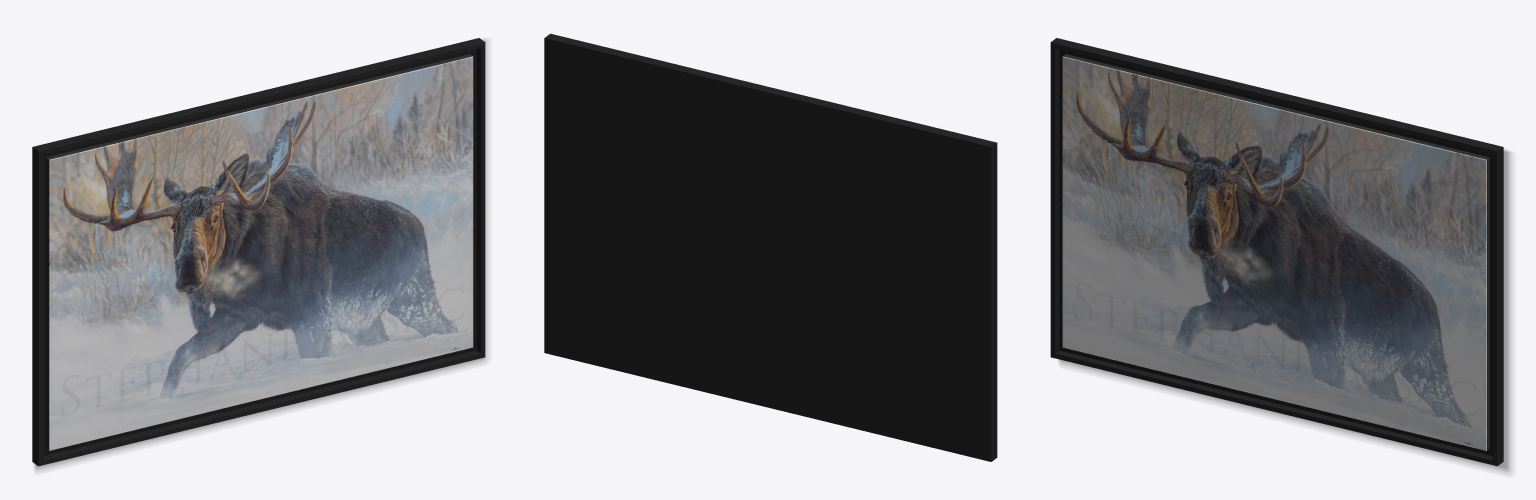
Rendered from tableau-elan-orignal-geant-c1877afa.glb.
The picture shows the model from 3 angles, left to right: view 1: azimuth 30°, elevation 25°; view 2: azimuth 150°, elevation 25°; view 3: azimuth 330°, elevation 25°; orthographic projection.
Visible parts, largest first — view 1: Painting; view 2: Painting; view 3: Painting.
Boxes of the visible parts, x1,y1,x2,y2 form: Painting: [32, 38, 486, 470]; Painting: [544, 33, 997, 461]; Painting: [1050, 38, 1510, 472].
Size of the model in its own units: 1.83 by 1.28 by 0.04.
5 materials, 3 textured.
